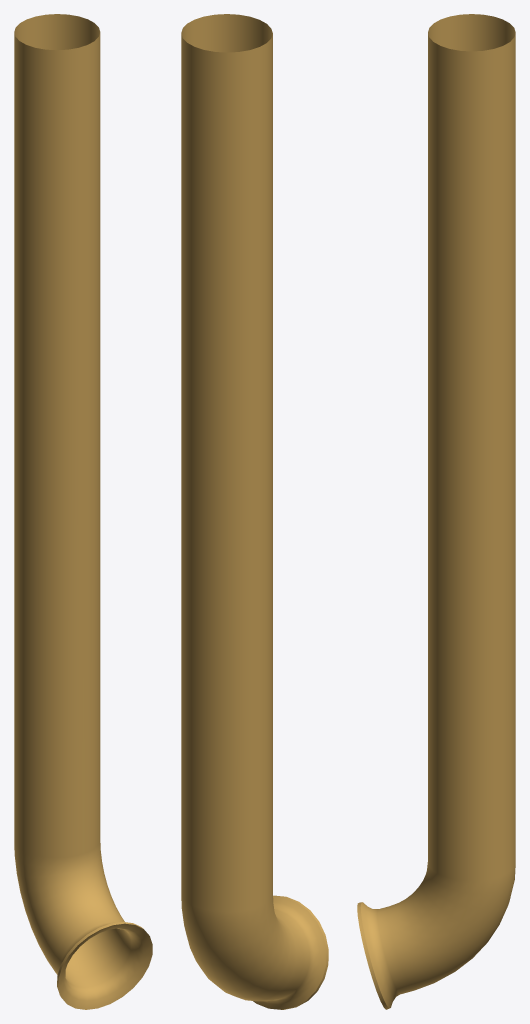
The model's file is pipe.fbx.
3 views of the same model, side by side, from view 1: azimuth 30°, elevation 25°; view 2: azimuth 150°, elevation 25°; view 3: azimuth 270°, elevation 25° (orthographic). The views are drawn at different scales.
Parts seen in each view (by area): view 1: pipe; view 2: pipe; view 3: pipe.
Boxes of the visible parts, box(x1,y1,x2,y2) form: pipe: box(14, 14, 152, 1009); pipe: box(181, 14, 328, 1009); pipe: box(357, 14, 515, 1009).
Bounding box in the file's own units: 0.6553 × 6.32 × 0.9347.
